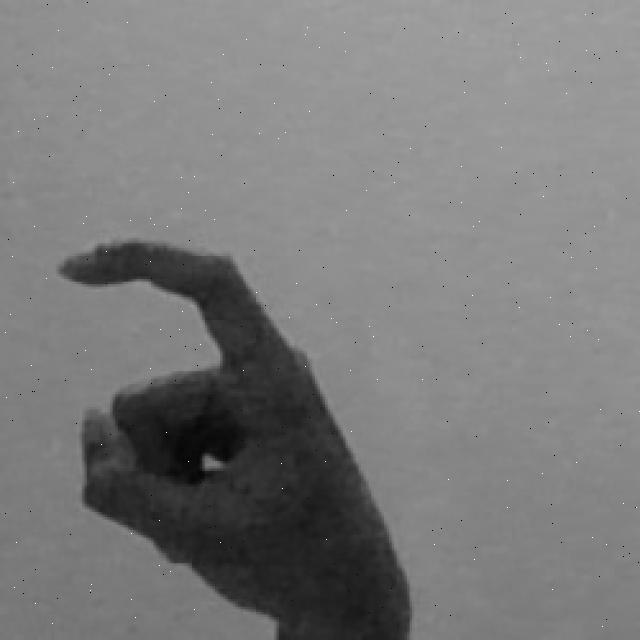X: (49, 230, 423, 640)
